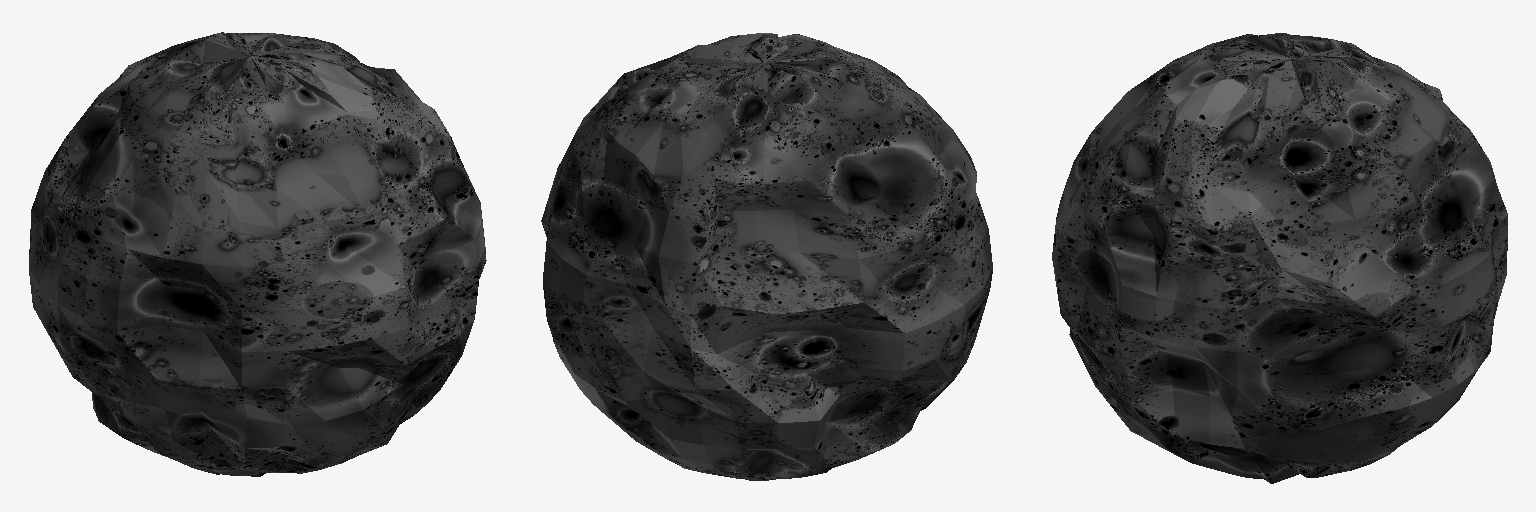
3 renders of one model, left to right at view 1: azimuth 30°, elevation 25°; view 2: azimuth 150°, elevation 25°; view 3: azimuth 270°, elevation 25°, orthographic.
Visible parts, largest first — view 1: 球; view 2: 球; view 3: 球.
Part boxes in pixels (x1,y1,x2,y2): 球: (29, 32, 486, 476); 球: (541, 33, 992, 480); 球: (1052, 33, 1507, 483).
Bounding box in the file's own units: 2 × 1.94 × 2.
1 materials, 1 textured.